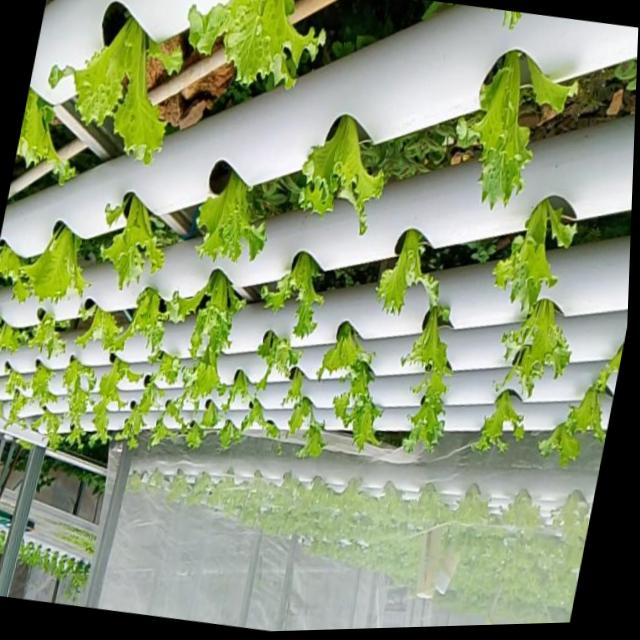Baby: (50, 24, 182, 168), (188, 0, 324, 92), (455, 52, 528, 209), (298, 116, 383, 234), (490, 197, 572, 310), (401, 295, 450, 448), (195, 162, 265, 261), (497, 296, 567, 393), (100, 194, 165, 289), (22, 226, 89, 307), (102, 287, 178, 357), (261, 250, 322, 336), (375, 227, 436, 312), (333, 360, 379, 447), (559, 365, 609, 438), (241, 328, 300, 387), (315, 319, 372, 376), (470, 386, 521, 448), (61, 356, 95, 442), (181, 344, 225, 406), (30, 410, 62, 449), (29, 364, 54, 407), (4, 390, 27, 427), (154, 352, 180, 384), (159, 396, 182, 426)
